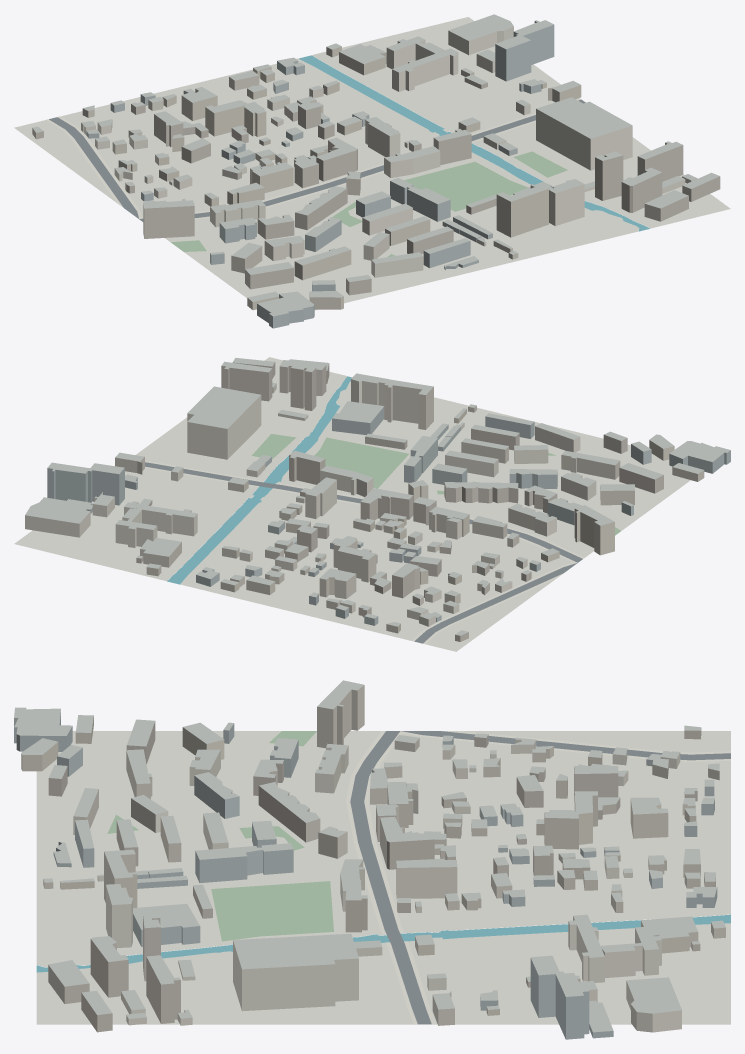
3 renders of one model, top to bottom at view 1: azimuth 30°, elevation 25°; view 2: azimuth 150°, elevation 25°; view 3: azimuth 270°, elevation 25°, orthographic. The views are drawn at different scales.
Visible parts, largest first — view 1: city; view 2: city; view 3: city.
Part boxes in pixels (x1,y1,x2,y2): city: (14, 14, 730, 328); city: (14, 357, 730, 651); city: (14, 680, 730, 1039).
Bounding box in the file's own units: 544 × 42.28 × 516.
